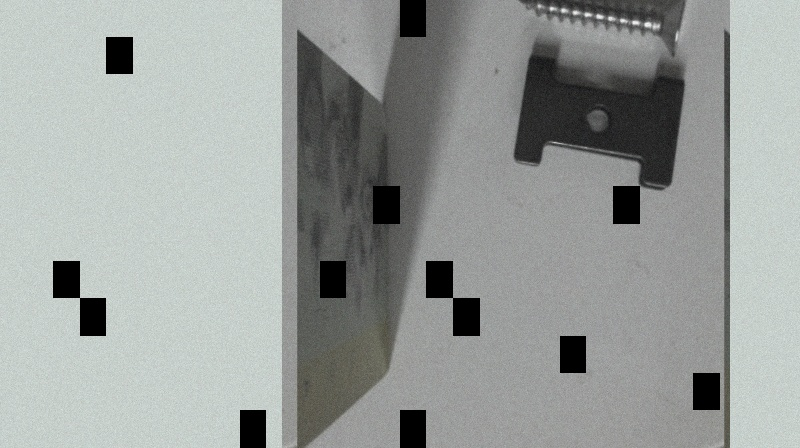O002: (516, 57, 687, 190)
S001: (508, 0, 690, 58)
